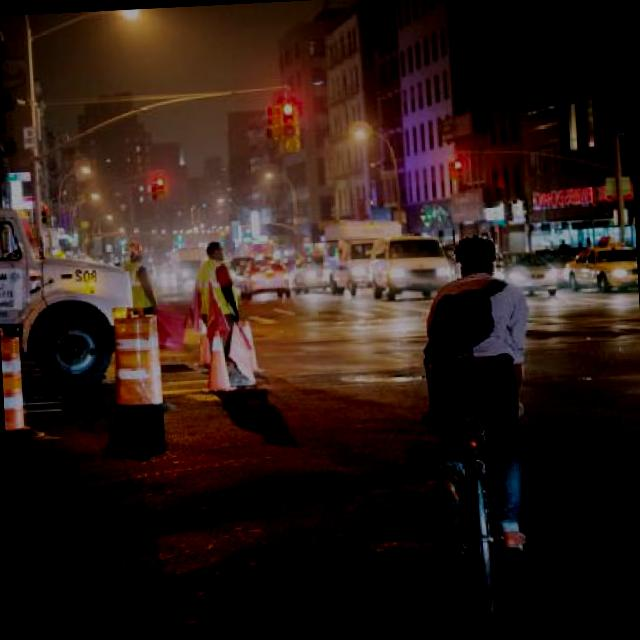Person: (405, 218, 552, 568), (197, 239, 243, 353), (120, 238, 162, 312), (558, 238, 572, 248), (587, 236, 594, 247), (578, 240, 586, 248)
